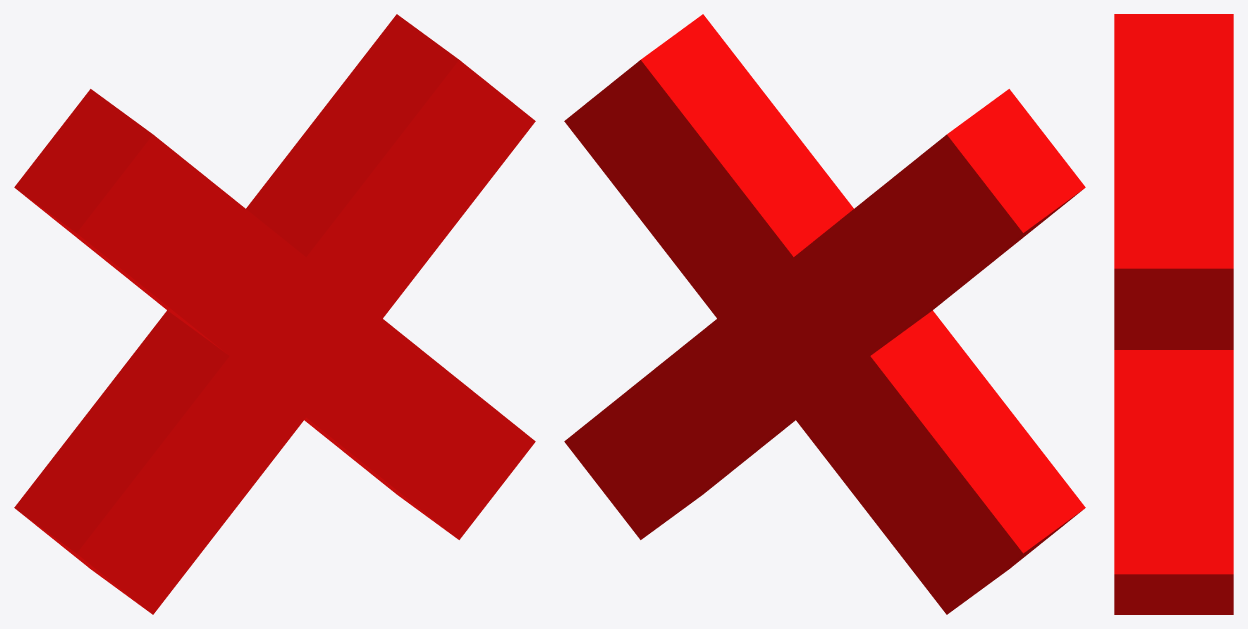
The model's file is ar_batu_01.obj.
The picture shows the model from 3 angles, left to right: view 1: azimuth 30°, elevation 25°; view 2: azimuth 150°, elevation 25°; view 3: azimuth 270°, elevation 25°; orthographic projection. The views are drawn at different scales.
Parts seen in each view (by area): view 1: 立方体; view 2: 立方体; view 3: 立方体.
Boxes of the visible parts, box(x1,y1,x2,y2) form: 立方体: box(14, 14, 535, 614); 立方体: box(564, 14, 1085, 614); 立方体: box(1114, 14, 1233, 614).
Bounding box in the file's own units: 8.49 × 8.49 × 2.
